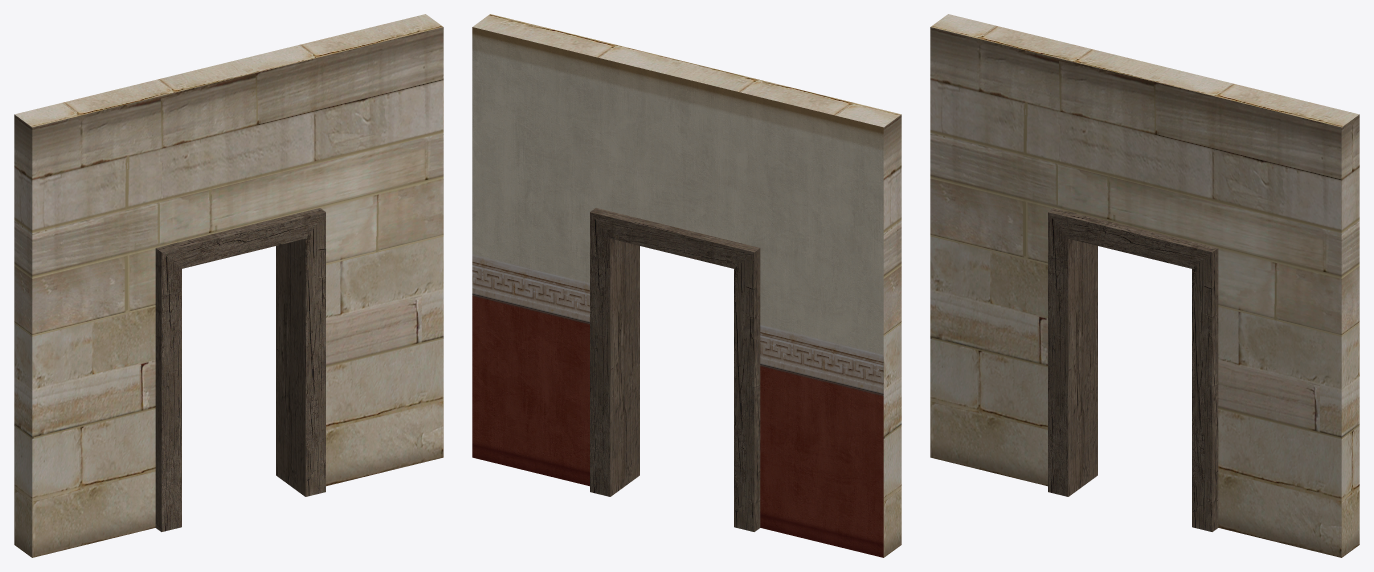
File: svspartadoorway2.dae
3 renders of one model, left to right at view 1: azimuth 30°, elevation 25°; view 2: azimuth 150°, elevation 25°; view 3: azimuth 330°, elevation 25°, orthographic.
Visible parts, largest first — view 1: unnamed_object6_copy52-0; view 2: unnamed_object6_copy52-0; view 3: unnamed_object6_copy52-0.
Part boxes in pixels (<box>): unnamed_object6_copy52-0: <box>14,14,443,557</box>; unnamed_object6_copy52-0: <box>472,14,901,557</box>; unnamed_object6_copy52-0: <box>930,14,1359,557</box>.
Bounding box in the file's own units: 300 × 300 × 37.5.
